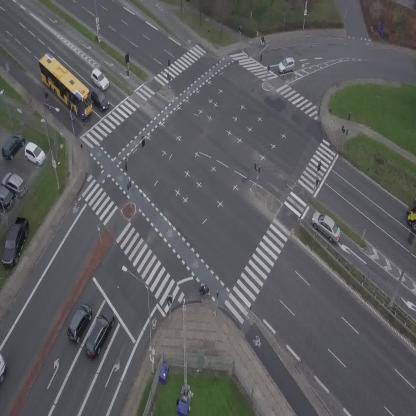bicycle: (197, 283, 211, 297), (43, 91, 50, 105), (258, 35, 266, 46)
bus: (31, 50, 101, 121)
car: (80, 303, 120, 362), (62, 301, 97, 346), (306, 208, 346, 245), (86, 87, 114, 114), (86, 67, 112, 92), (276, 56, 297, 75)
lorry: (407, 198, 416, 231)
